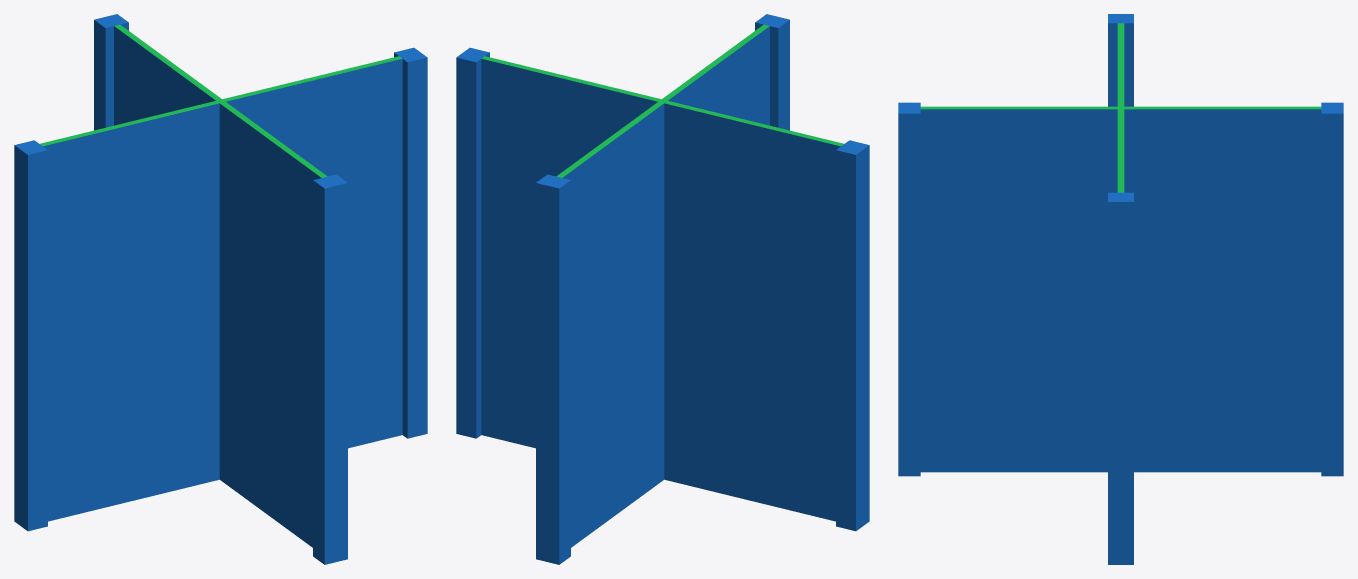
The model's file is SM_plywood_fence_9.fbx.
3 renders of one model, left to right at view 1: azimuth 30°, elevation 25°; view 2: azimuth 150°, elevation 25°; view 3: azimuth 270°, elevation 25°, orthographic. The views are drawn at different scales.
Parts seen in each view (by area): view 1: Boole_6; view 2: Boole_6; view 3: Boole_6.
Boxes of the visible parts, x1,y1,x2,y2 form: Boole_6: [14, 14, 427, 564]; Boole_6: [456, 14, 869, 564]; Boole_6: [898, 14, 1343, 564].
Bounding box in the file's own units: 222 × 200 × 222.
